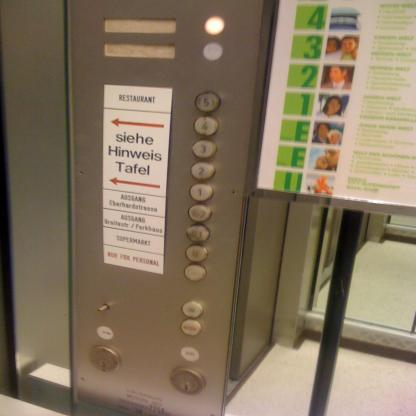1: (188, 182, 214, 202)
2: (189, 160, 217, 181)
3: (190, 138, 218, 160)
4: (192, 115, 220, 137)
5: (193, 90, 222, 113)
U: (184, 244, 209, 262)
blur: (186, 203, 214, 223), (202, 15, 228, 36), (185, 223, 212, 243), (180, 300, 204, 320), (179, 318, 203, 336)
down: (201, 41, 224, 62)
empty: (182, 264, 208, 282)
keyhole: (168, 366, 208, 396), (86, 344, 122, 375)
